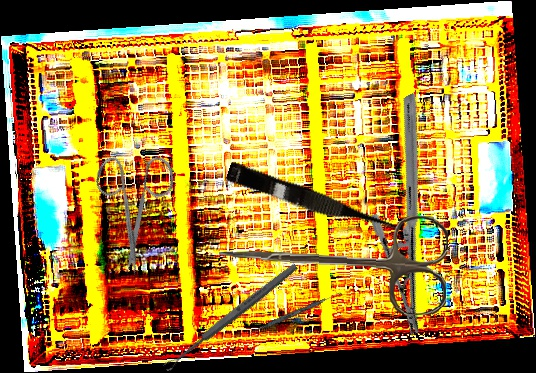Iris Scissors: (217, 209, 449, 316), (64, 130, 212, 281)
Micro Scissor: (224, 161, 404, 243)
Needle Holder: (304, 91, 520, 338)
Spatula Surgical: (248, 288, 343, 338)
Surgical Spoon: (161, 261, 300, 373)
